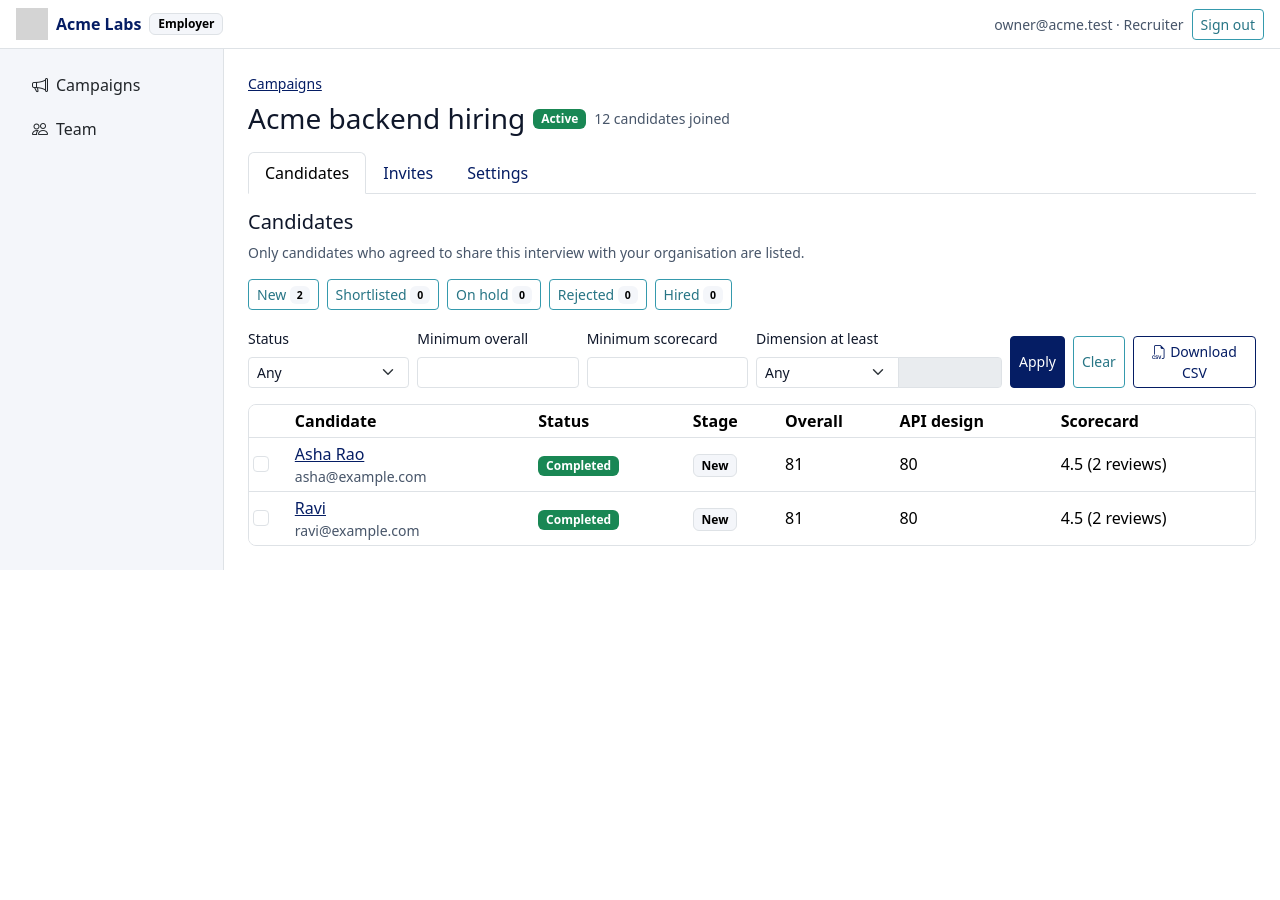
Test case: campaign pipeline › lists consenting candidates and moves a selection to a stage
Expected: the link "Asha Rao" is shown, [295,443,364,465]
Expected: the text "agreed to share this interview" is shown, [248,243,805,262]
Click the checkbox named "Select Asha Rao": x=261, y=464 [253,456,269,472]
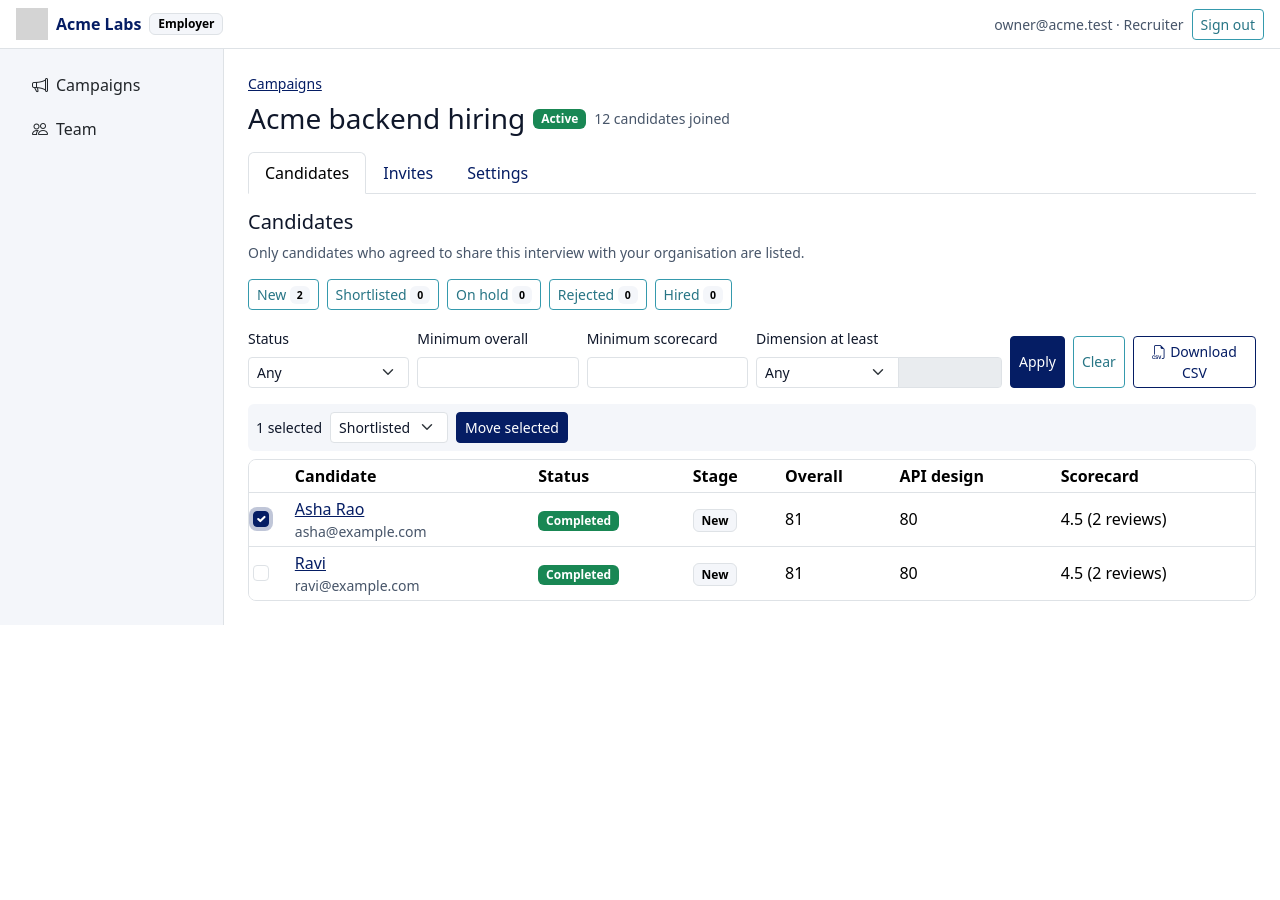
Click the checkbox named "Select Ravi": x=261, y=573 [253,565,269,581]
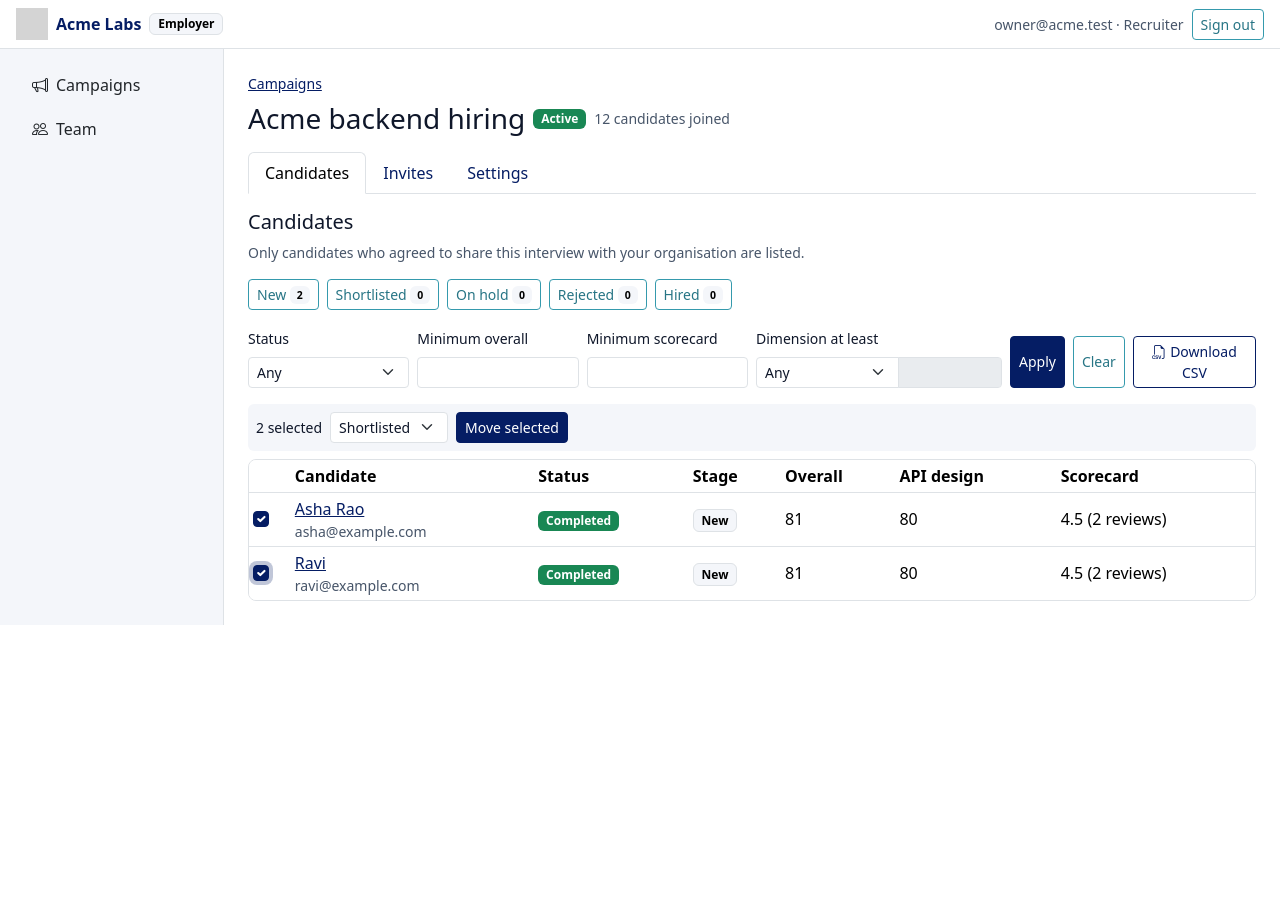
Select "Hired" in the dropdown named "Move to…": x=389, y=427 [330,412,448,443]
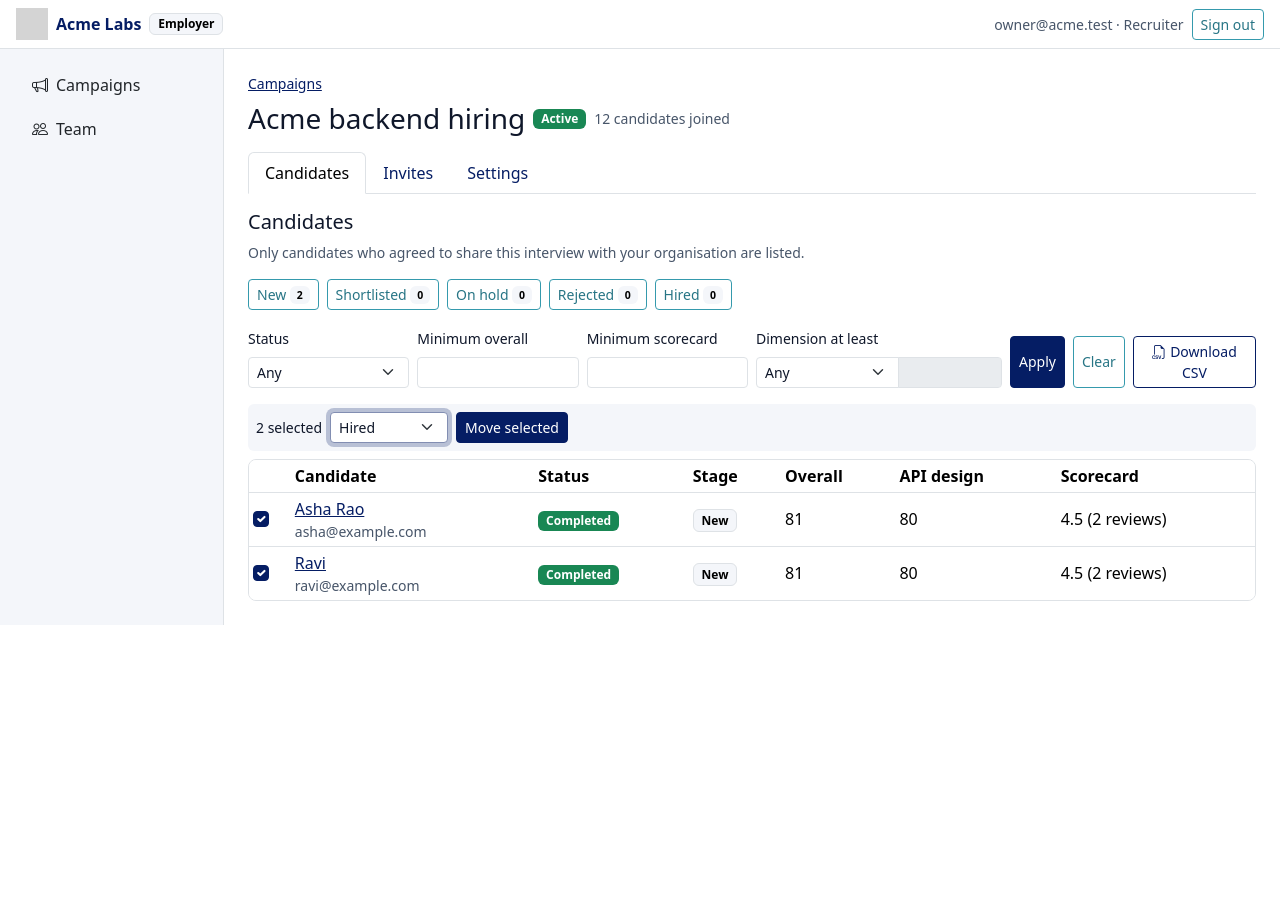
Click the button "Move selected": x=512, y=427 [456,412,568,443]
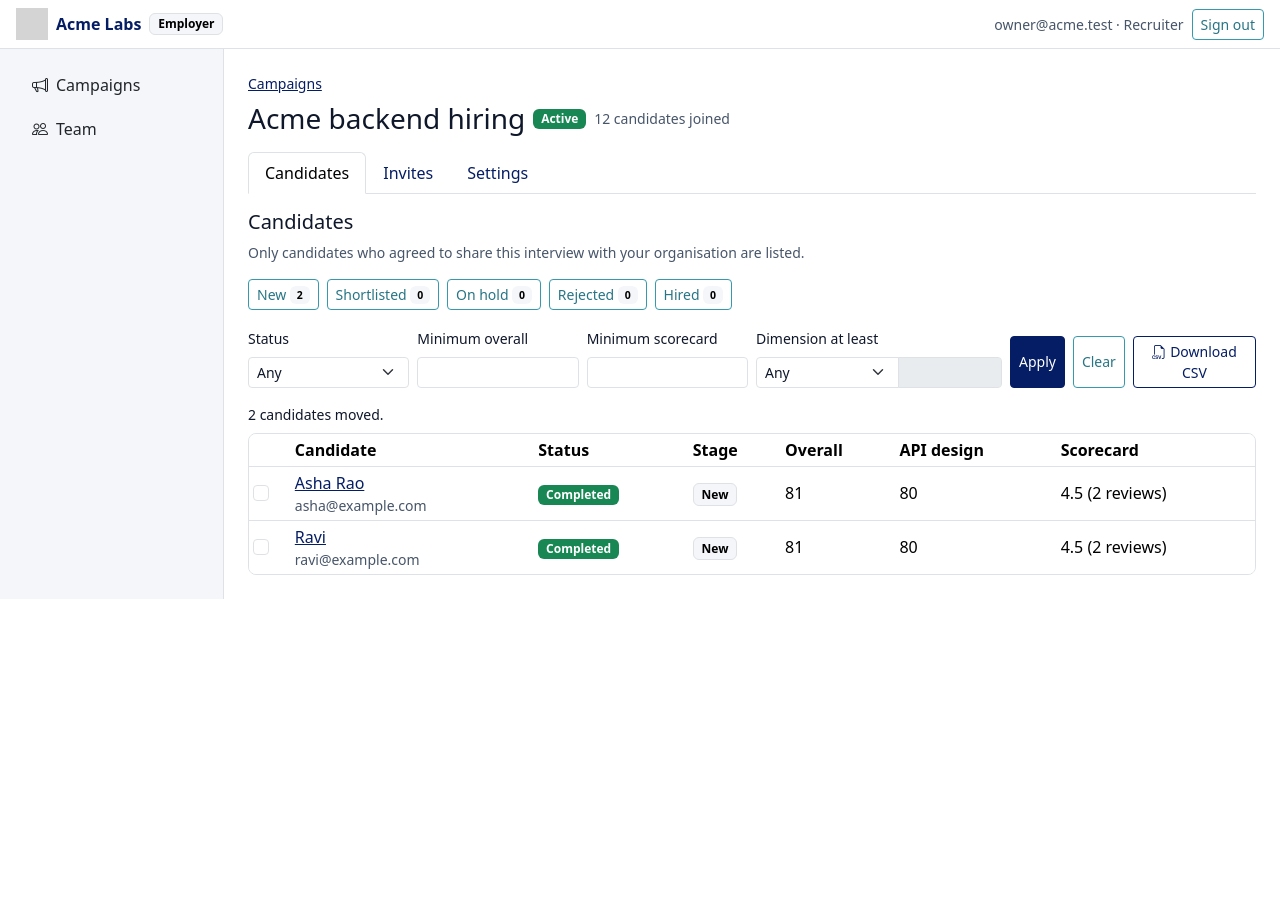
Now the text "2 candidates moved." is shown, box [248,405,384,424]
